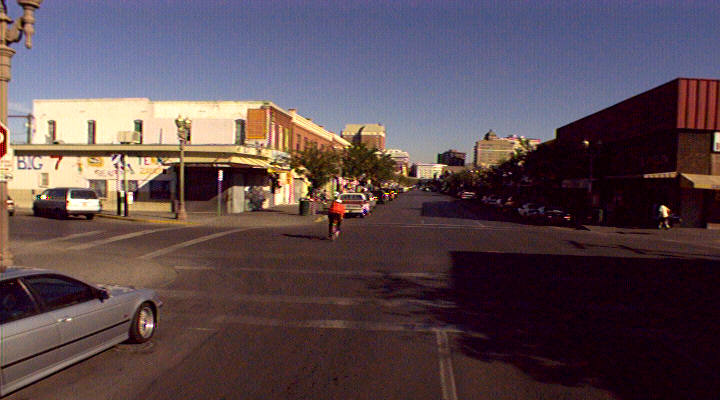Ramp: (176, 209, 322, 232), (585, 221, 720, 243)
